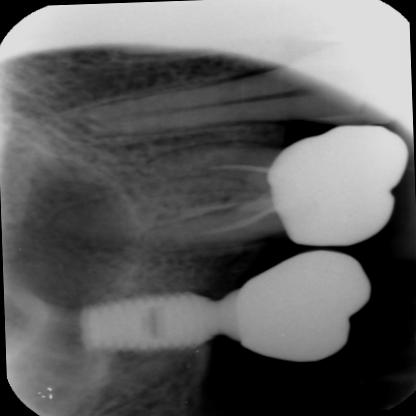Bicon: (73, 287, 222, 359)
